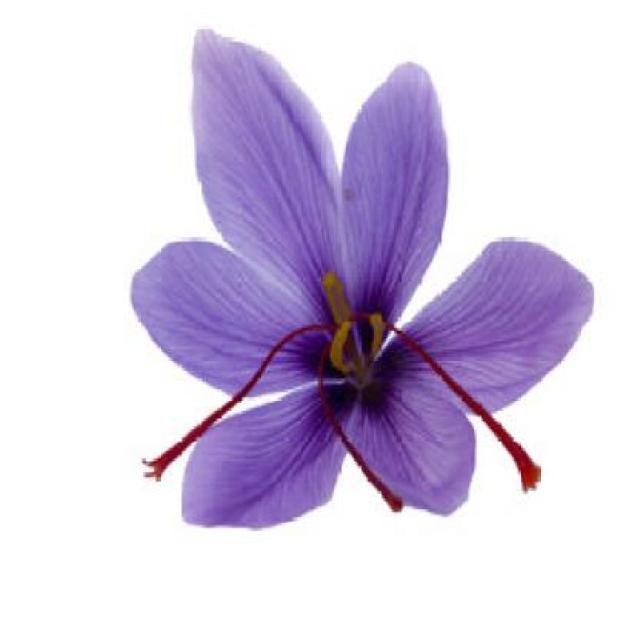Flower: (119, 20, 583, 542)
stigma: (345, 309, 544, 496), (140, 320, 348, 488), (314, 314, 409, 518)
